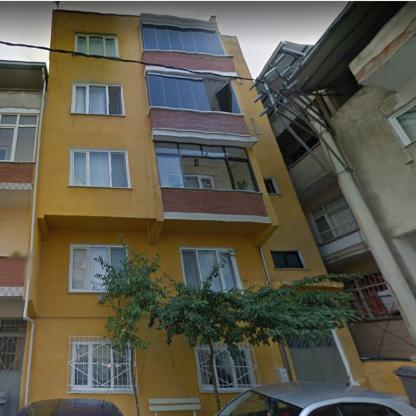door: (287, 338, 348, 383), (1, 318, 26, 416), (70, 245, 122, 291), (181, 249, 226, 288), (212, 259, 241, 291)
window: (154, 142, 257, 192), (146, 73, 240, 114), (72, 341, 132, 391), (141, 25, 224, 55), (309, 196, 358, 243), (344, 272, 393, 318), (70, 150, 129, 187), (1, 108, 39, 162), (214, 346, 255, 392), (71, 83, 123, 114), (388, 99, 416, 145), (75, 34, 119, 56), (196, 347, 212, 389), (168, 175, 214, 188), (271, 252, 303, 267), (264, 179, 276, 193)
